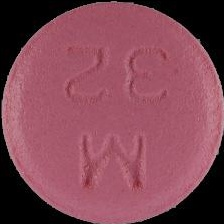43063-440: (0, 0, 224, 224)
